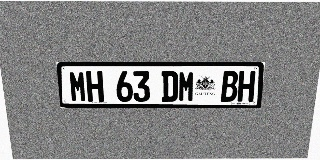3: (133, 71, 150, 102)
6: (116, 71, 133, 102)
B: (221, 71, 239, 102)
D: (161, 71, 178, 102)
H: (237, 71, 256, 102), (86, 71, 104, 102)
M: (69, 71, 87, 102), (178, 71, 195, 102)
